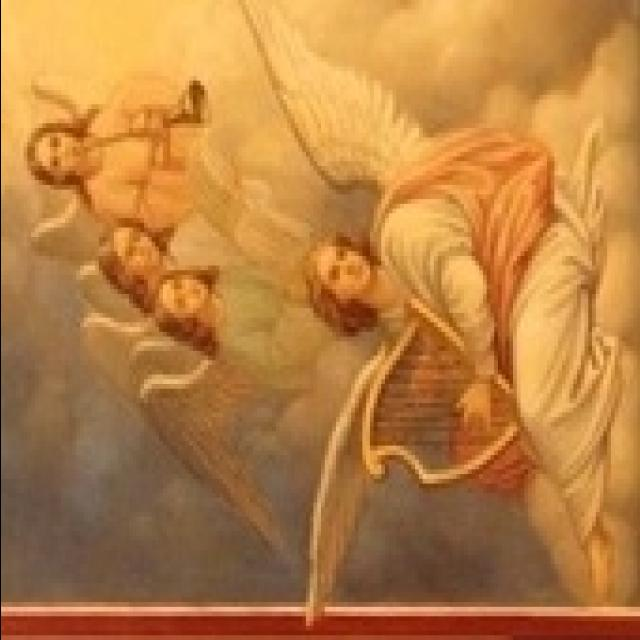angel: (243, 22, 618, 640), (19, 64, 216, 270)
